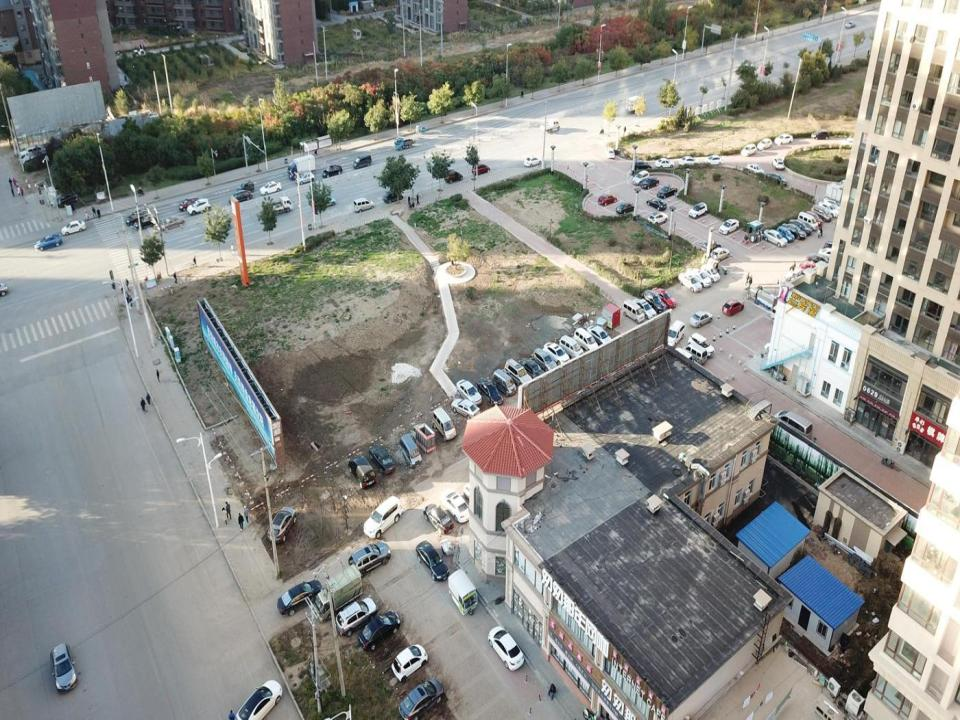car: (236, 677, 284, 719), (400, 676, 445, 719), (47, 640, 78, 696), (277, 580, 320, 620), (488, 624, 525, 670), (363, 494, 401, 538), (361, 610, 399, 652), (349, 542, 388, 580), (392, 642, 427, 684), (338, 598, 377, 635), (415, 539, 449, 581), (267, 505, 296, 541), (442, 488, 470, 522), (423, 504, 454, 534), (350, 455, 376, 489), (542, 342, 572, 369), (369, 444, 395, 475), (642, 288, 666, 318), (479, 381, 504, 409), (463, 482, 488, 510), (532, 349, 556, 378), (452, 398, 478, 423), (456, 381, 482, 406), (520, 360, 545, 385), (652, 287, 678, 311), (689, 334, 714, 358), (633, 298, 657, 322), (588, 324, 611, 349), (760, 230, 788, 250), (689, 266, 711, 290), (676, 272, 701, 292), (187, 196, 211, 216), (699, 236, 723, 256), (700, 261, 719, 286), (55, 189, 81, 206), (34, 236, 63, 251), (721, 299, 745, 317), (788, 218, 812, 236), (689, 310, 714, 327), (59, 219, 85, 235), (133, 213, 158, 229), (125, 208, 147, 226), (783, 222, 806, 239), (806, 252, 829, 268), (179, 195, 199, 213), (768, 170, 788, 188), (708, 246, 730, 262), (160, 216, 184, 230), (260, 180, 282, 195), (228, 190, 253, 203), (820, 200, 838, 218), (824, 197, 842, 215), (805, 210, 824, 227), (321, 164, 342, 179), (311, 193, 335, 206), (646, 211, 668, 225), (382, 190, 404, 204), (721, 218, 739, 235), (776, 225, 794, 242), (822, 240, 839, 258), (444, 168, 463, 184), (654, 156, 674, 171), (616, 202, 637, 216), (524, 153, 542, 169), (236, 180, 255, 195), (819, 248, 838, 263), (774, 133, 794, 147), (656, 185, 677, 198), (689, 203, 707, 218), (296, 170, 314, 185), (799, 260, 817, 275), (598, 192, 617, 206), (647, 197, 667, 210), (747, 163, 764, 178), (631, 171, 648, 185), (640, 176, 659, 188), (631, 161, 651, 172), (470, 164, 491, 174), (679, 156, 698, 167), (703, 154, 723, 164), (742, 143, 756, 157), (756, 138, 772, 150), (811, 130, 830, 140), (772, 157, 784, 171), (843, 18, 856, 30), (606, 147, 615, 160)
truck: (314, 563, 363, 624), (288, 152, 315, 180), (262, 195, 293, 216), (626, 95, 646, 115), (394, 136, 417, 151), (540, 117, 561, 132)
van: (774, 410, 812, 444), (398, 433, 422, 470), (431, 408, 457, 441), (506, 359, 532, 388), (559, 335, 583, 363), (661, 320, 685, 348), (491, 368, 514, 397), (576, 329, 598, 358), (621, 300, 645, 325), (682, 344, 708, 367), (797, 211, 819, 230), (352, 196, 374, 213), (812, 203, 830, 223), (352, 154, 372, 169)
